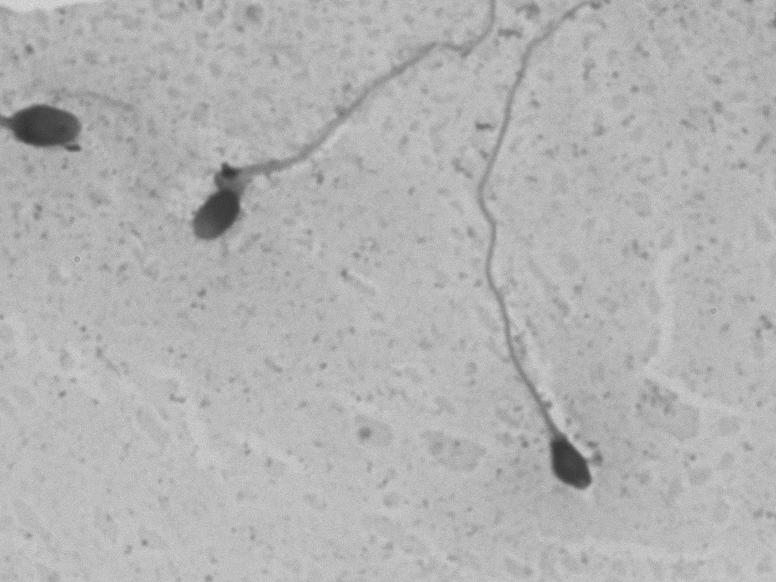Abnormal: (460, 86, 630, 509), (162, 36, 396, 280)
